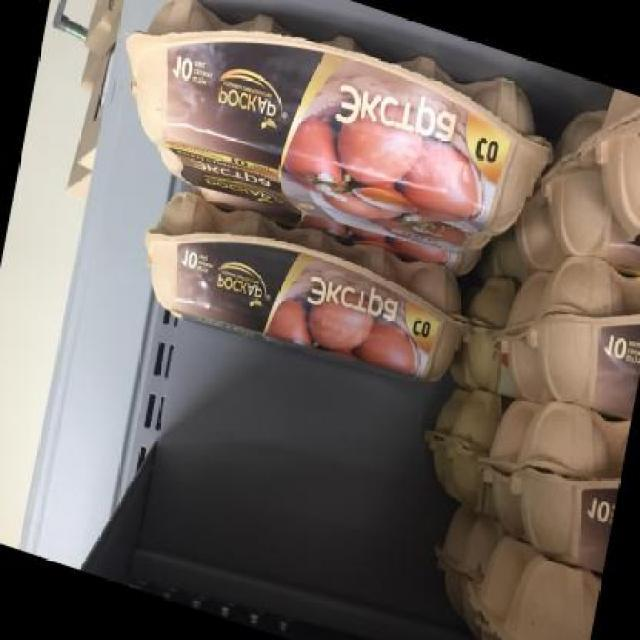Egg: (103, 0, 559, 298), (126, 168, 480, 411), (504, 384, 632, 583), (536, 243, 640, 424), (572, 84, 640, 258), (491, 552, 602, 640)
